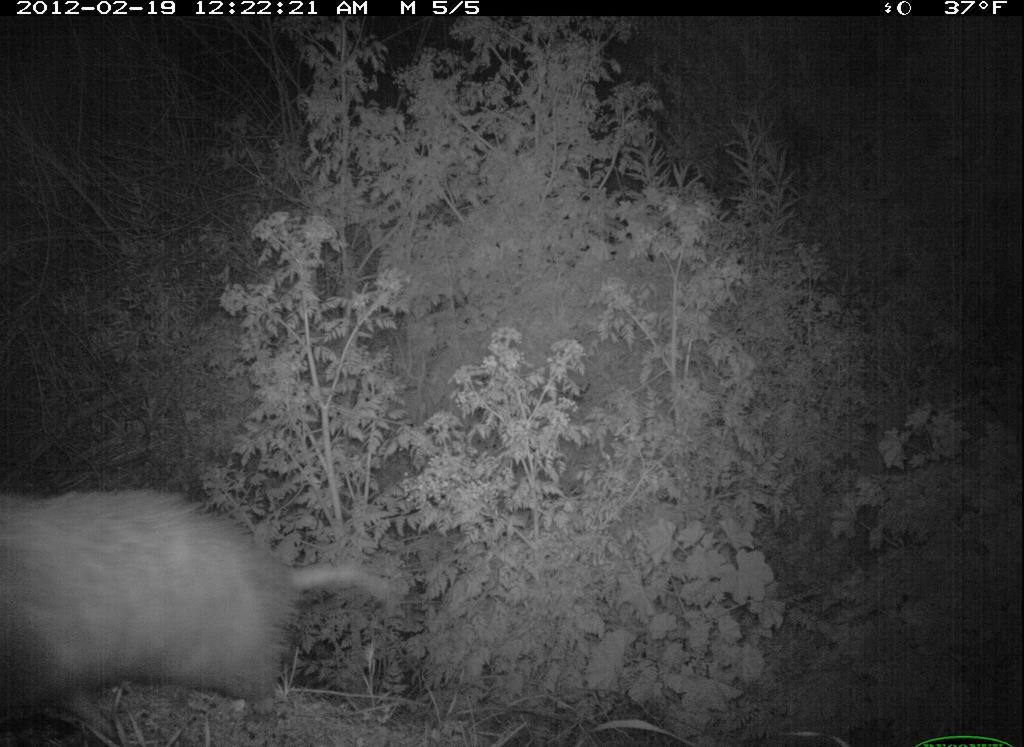opossum: (1, 454, 401, 740)
